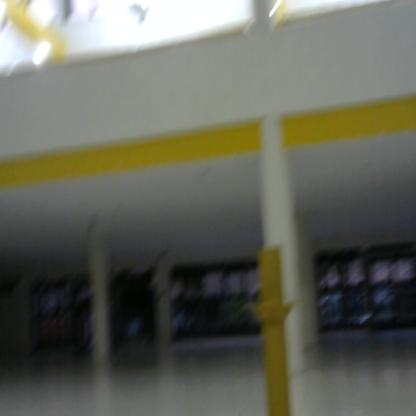pole: (248, 242, 305, 416)
